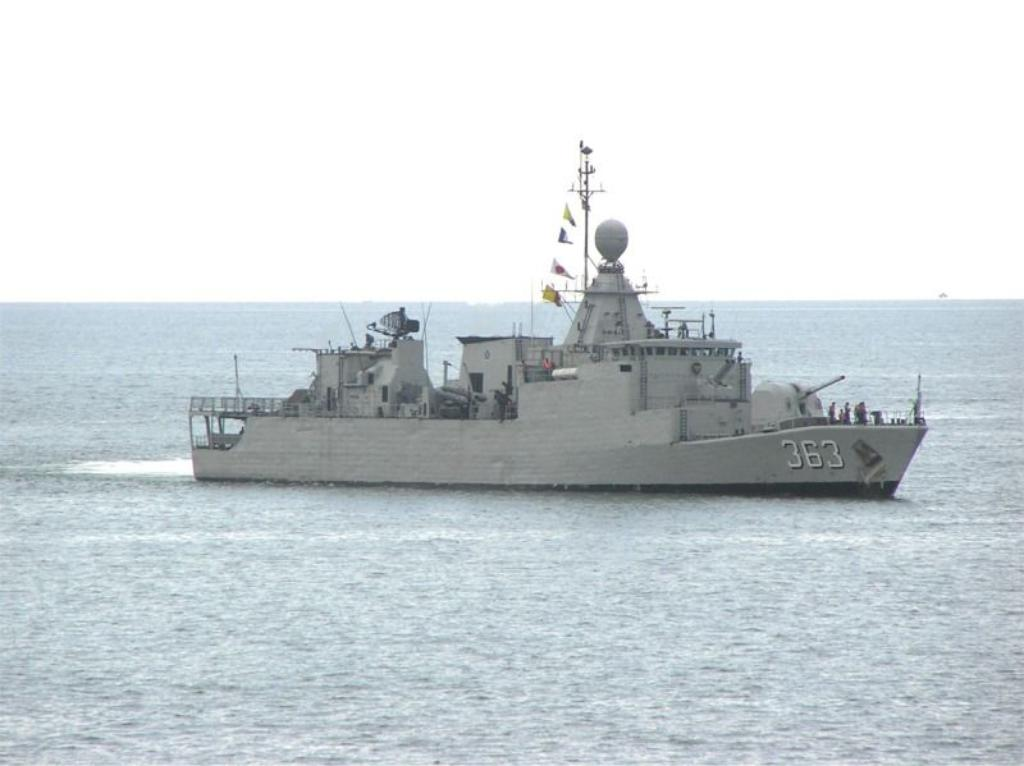Warship: (186, 144, 930, 498)
